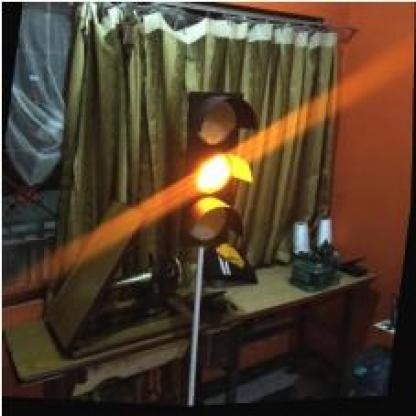yellow: (171, 88, 261, 253)
